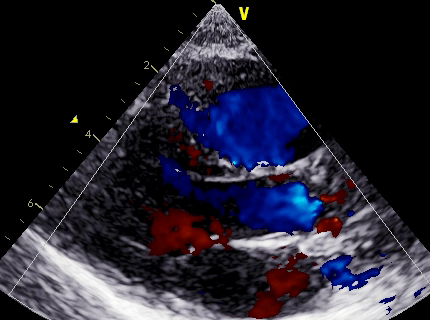AR: (154, 202, 237, 256)
